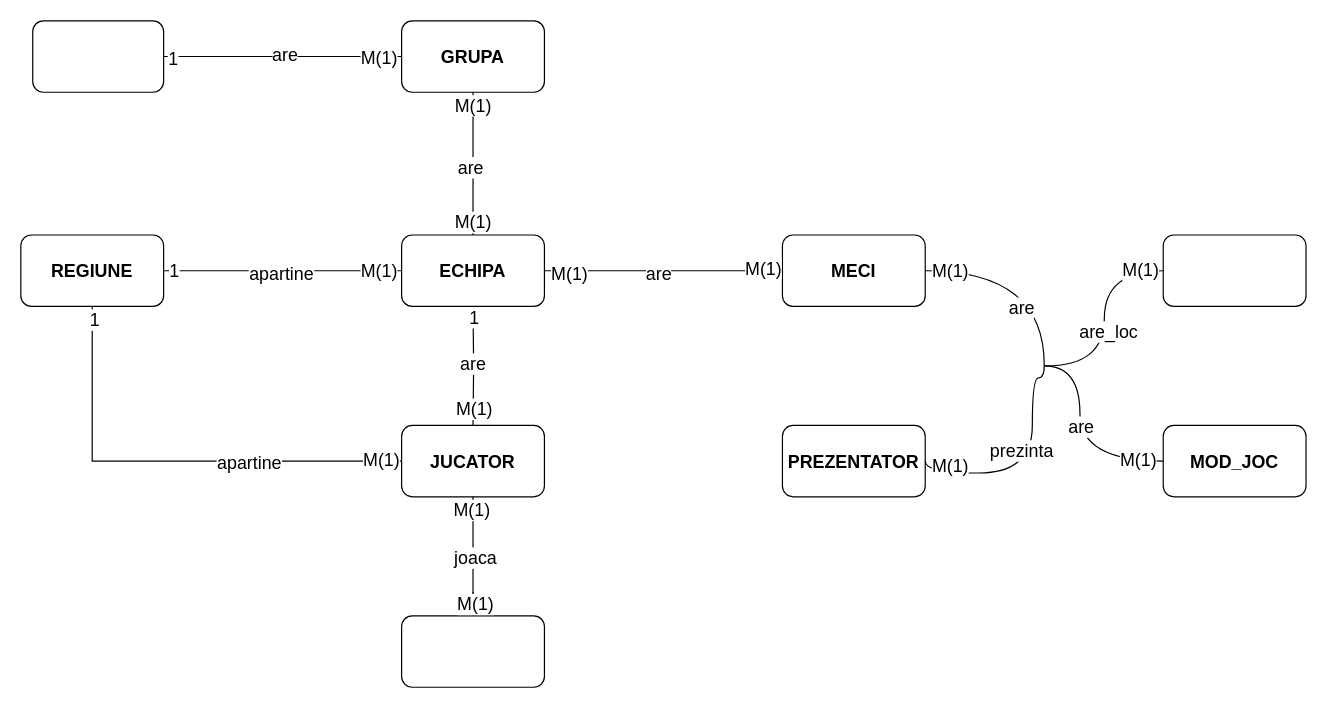
The diagram is 1327 pixels wide and 708 high, and some of its shapes have lost their labels. The shapes that lost their labels are listed below. From the top down, each one's box as (x1, y1, x2, y2) in pixels, then its label:
(32, 20, 164, 92): TURNEU
(1162, 234, 1306, 306): SCENA
(400, 615, 544, 687): CAMPION
